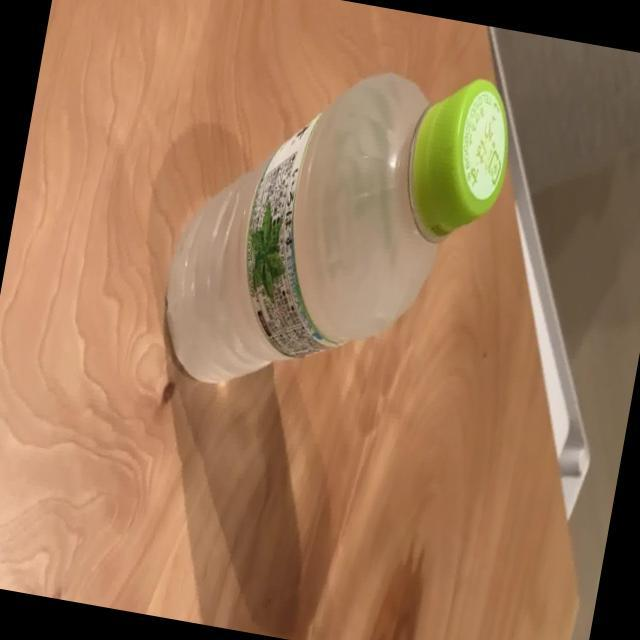good: (147, 26, 524, 430)
